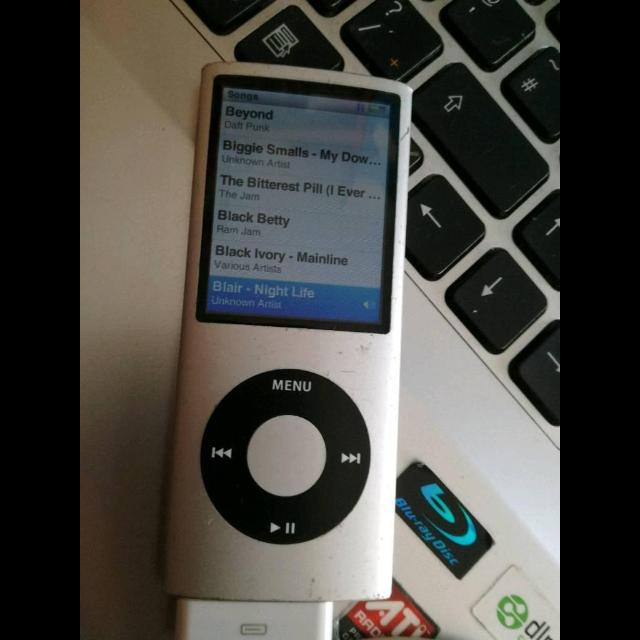Music-Player: (147, 55, 423, 611)
